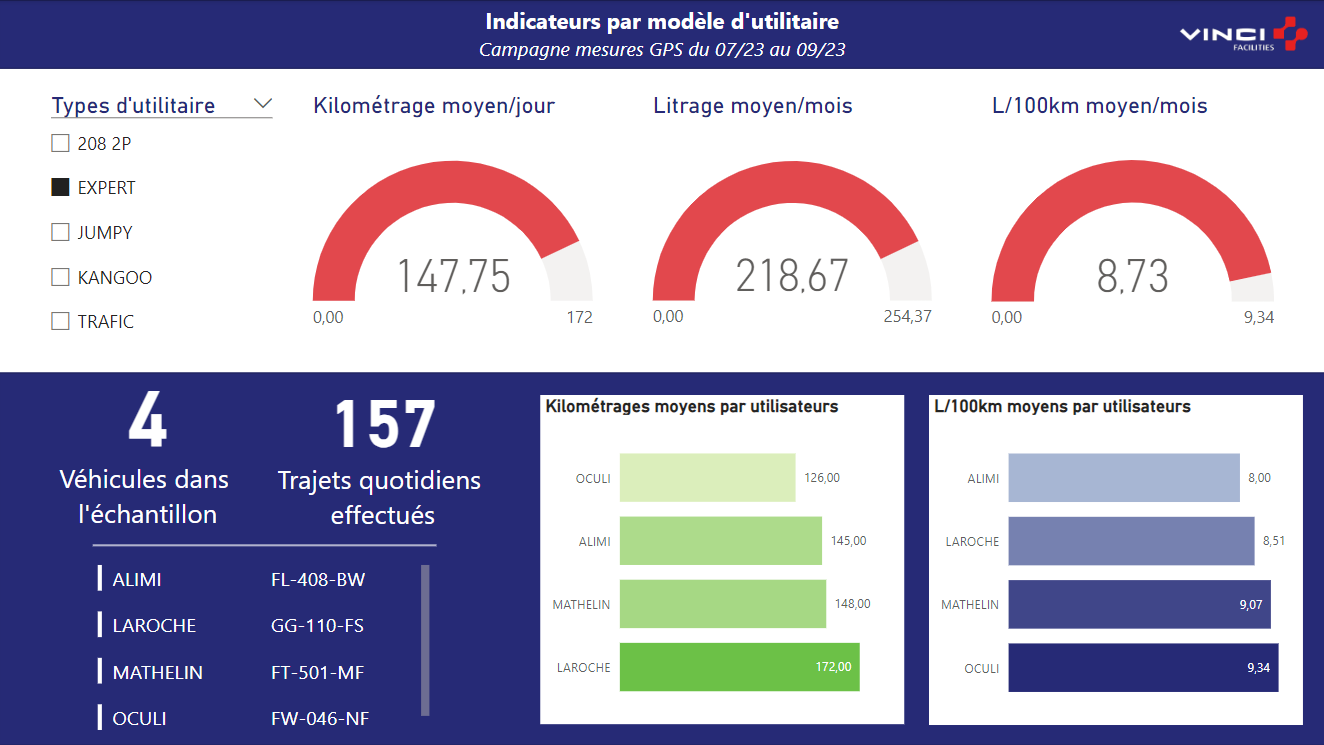

The dashboard page shown, as its layout file describes it:
{"tool":"powerbi","page":{"name":"Indicateurs par véhicules","canvas":[1280,720],"ordinal":5},"visuals":[{"type":"gauge","title":"Litrage moyen/mois","fields":{"Y":["Avg(BDD.Moyenne Litrage)"],"MaxValue":["BDD.Max mean litr"]},"box":[626,89.6,279.3,274.9],"z":0},{"type":"gauge","title":"Kilométrage moyen/jour","fields":{"Y":["Avg(BDD.mean km)"],"MaxValue":["BDD.Max mean km"]},"box":[297.9,89.6,280.2,274.9],"z":1000},{"type":"shape","box":[0,0,1279.6,66.3],"z":2000},{"type":"textbox","box":[0,0,1279.6,66.3],"z":3000},{"type":"slicer","fields":{"Values":["BDD.type"]},"box":[37.3,84.5,239.1,272.7],"z":4000},{"type":"image","box":[1122.8,0,156.8,66.3],"z":5000},{"type":"gauge","title":"L/100km moyen/mois","fields":{"Y":["Avg(BDD.Moyenne L/100km)"],"MaxValue":["BDD.Max mean L/100km"]},"box":[952.3,89.6,282.9,274.9],"z":6000},{"type":"shape","box":[0,360,1280,360],"z":7000},{"type":"card","fields":{"Values":["CountNonNull(BDD.type)"]},"box":[0,255.4,287.3,309.5],"z":8000},{"type":"shape","box":[90.4,376,331.6,299.7],"z":9000},{"type":"barChart","title":"Kilométrages moyens par utilisateurs","fields":{"Y":["Avg(BDD.mean km)"],"Category":["BDD.nom"]},"box":[522.3,381.3,351.1,317.4],"z":10000},{"type":"barChart","title":"L/100km moyens par type d''utilitaire","fields":{"Y":["Avg(BDD.Moyenne L/100km)"],"Category":["BDD.nom"]},"box":[897.3,380.9,360.9,318.2],"z":11000},{"type":"multiRowCard","fields":{"Values":["BDD.nom","BDD.Immat"]},"box":[90.6,540,329.9,172],"z":12000},{"type":"card","fields":{"Values":["BDD.total trajets"]},"box":[254.5,285.5,232.3,262.5],"z":13000}]}

Visuals, with their boxes in screenshot pixels (x1, y1, x2, y2), scaled from the page's 1280x720 canvas onto the 1324x745 screenshot:
"Litrage moyen/mois" gauge: detection(648, 93, 936, 377)
"Kilométrage moyen/jour" gauge: detection(308, 93, 598, 377)
shape: detection(0, 0, 1323, 69)
textbox: detection(0, 0, 1323, 69)
slicer - BDD.type: detection(39, 87, 286, 370)
image: detection(1161, 0, 1323, 69)
"L/100km moyen/mois" gauge: detection(985, 93, 1278, 377)
shape: detection(0, 373, 1323, 744)
card - CountNonNull(BDD.type): detection(0, 264, 297, 585)
shape: detection(94, 389, 437, 699)
"Kilométrages moyens par utilisateurs" barChart: detection(540, 395, 903, 723)
"L/100km moyens par type d''utilitaire" barChart: detection(928, 394, 1301, 723)
multiRowCard - BDD.nom x BDD.Immat: detection(94, 559, 435, 737)
card - BDD.total trajets: detection(263, 295, 504, 567)
